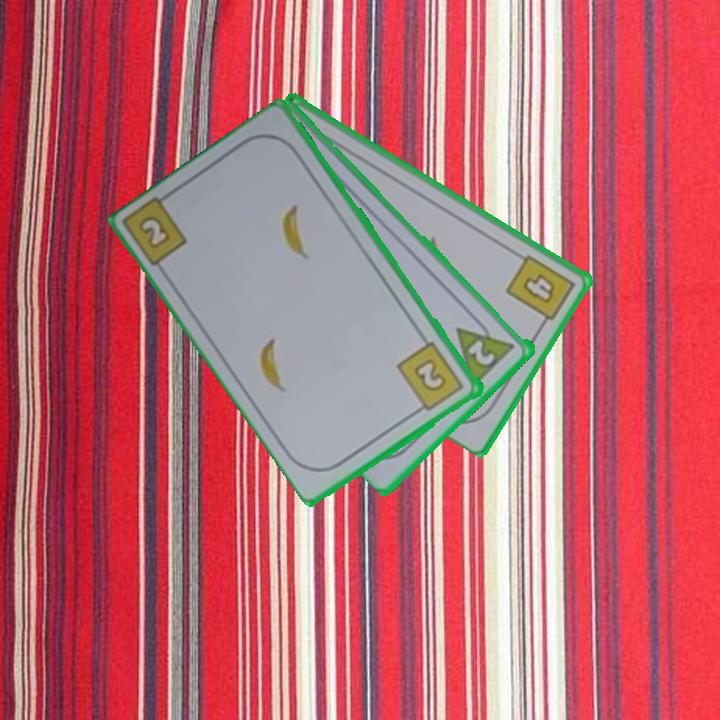2b: (394, 338, 467, 417), (138, 215, 170, 249)
2p: (464, 335, 499, 369)
4b: (502, 251, 578, 331)
